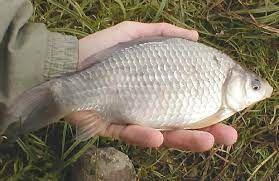Grass Carp: (13, 33, 273, 138)
